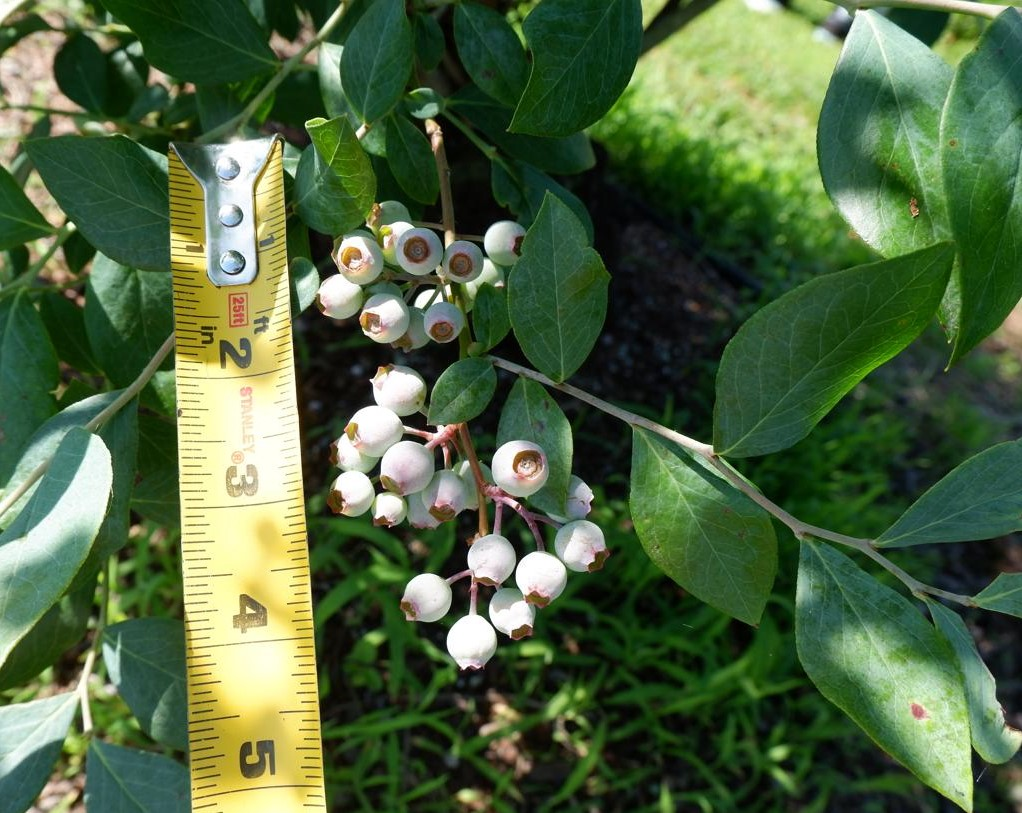Immature: (493, 440, 550, 498), (370, 364, 428, 417), (516, 550, 567, 610), (343, 407, 404, 457), (380, 441, 436, 495), (554, 520, 610, 573), (447, 615, 497, 671), (468, 535, 517, 590), (421, 470, 471, 522), (359, 294, 410, 344), (400, 573, 452, 622), (488, 588, 536, 639), (546, 474, 594, 524), (394, 228, 444, 275), (338, 236, 385, 285), (327, 471, 375, 518), (452, 460, 495, 510), (316, 274, 363, 319), (329, 434, 380, 474), (365, 200, 414, 241), (460, 258, 506, 301), (391, 305, 431, 354), (485, 220, 527, 265), (443, 241, 485, 283), (375, 222, 415, 265), (424, 302, 465, 343), (331, 229, 379, 264), (406, 489, 444, 530), (371, 492, 408, 528), (361, 280, 403, 310), (445, 282, 475, 313), (414, 288, 444, 310)
